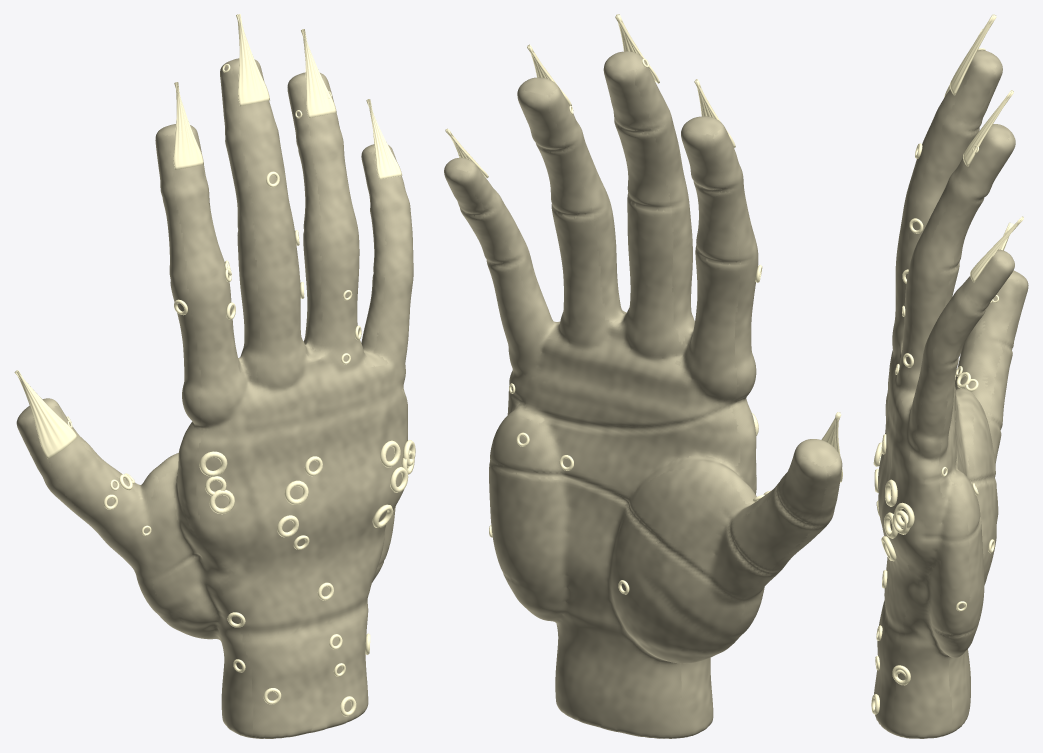
Rendered from family-07.glb.
3 renders of one model, left to right at view 1: azimuth 30°, elevation 25°; view 2: azimuth 150°, elevation 25°; view 3: azimuth 270°, elevation 25°, orthographic. The views are drawn at different scales.
Visible parts, largest first — view 1: fingers__fingers_sculpt, back_of_hand__back_of_hand_sculpt, wrist__wrist_sculpt, fingertips__fingertips_sculpt, back_of_hand, palm__palm_sculpt, nails__thumb_claw, nails__middle_claw, fingers, nails__index_claw, nails__ring_claw, nails__pinky_claw (+1 smaller); view 2: fingers__fingers_sculpt, palm__palm_sculpt, wrist__wrist_sculpt, fingertips__fingertips_sculpt; view 3: fingers__fingers_sculpt, palm__palm_sculpt, wrist__wrist_sculpt, fingertips__fingertips_sculpt, back_of_hand__back_of_hand_sculpt, back_of_hand, fingers, nails__middle_claw, nails__ring_claw, wrist, nails__pinky_claw.
Boxes of the visible parts, x1,y1,x2,y2 form: fingers__fingers_sculpt: (43,118,413,617); back_of_hand__back_of_hand_sculpt: (180,387,407,635); wrist__wrist_sculpt: (171,601,368,738); fingertips__fingertips_sculpt: (16,58,405,479); back_of_hand: (199,440,415,627); palm__palm_sculpt: (160,432,395,628); nails__thumb_claw: (14,370,77,458); nails__middle_claw: (236,14,269,106); fingers: (103,171,361,535); nails__index_claw: (173,82,203,169); nails__ring_claw: (301,29,336,118); nails__pinky_claw: (366,99,402,179); fingers__fingers_sculpt: (458,102,834,642); palm__palm_sculpt: (489,367,754,651); wrist__wrist_sculpt: (517,599,726,738); fingertips__fingertips_sculpt: (444,51,842,518); fingers__fingers_sculpt: (887,100,1014,523); palm__palm_sculpt: (924,382,996,651); wrist__wrist_sculpt: (874,600,971,738); fingertips__fingertips_sculpt: (943,50,1028,340); back_of_hand__back_of_hand_sculpt: (878,393,926,639); back_of_hand: (873,434,914,588); fingers: (895,143,978,391); nails__middle_claw: (949,14,996,95); nails__ring_claw: (963,90,1013,166); wrist: (871,625,910,714); nails__pinky_claw: (970,216,1023,282).
Bounding box in the file's own units: 0.1316 × 0.2297 × 0.0478.
2 materials, 1 textured.
